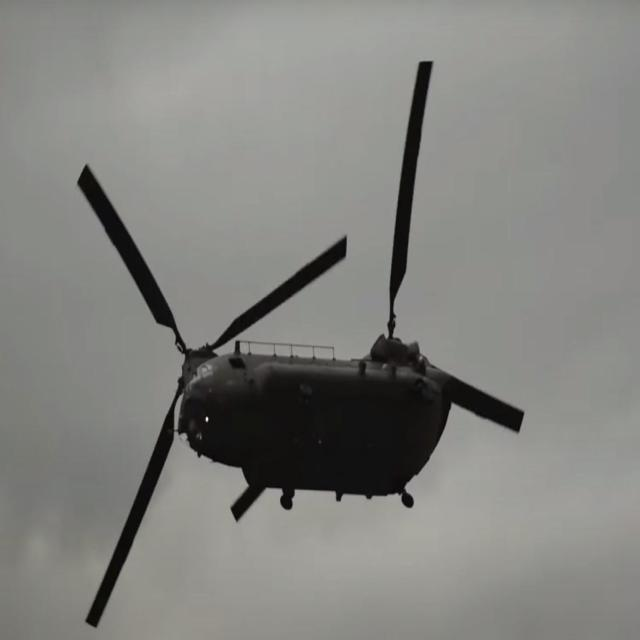Helicopter: (74, 102, 535, 640)
